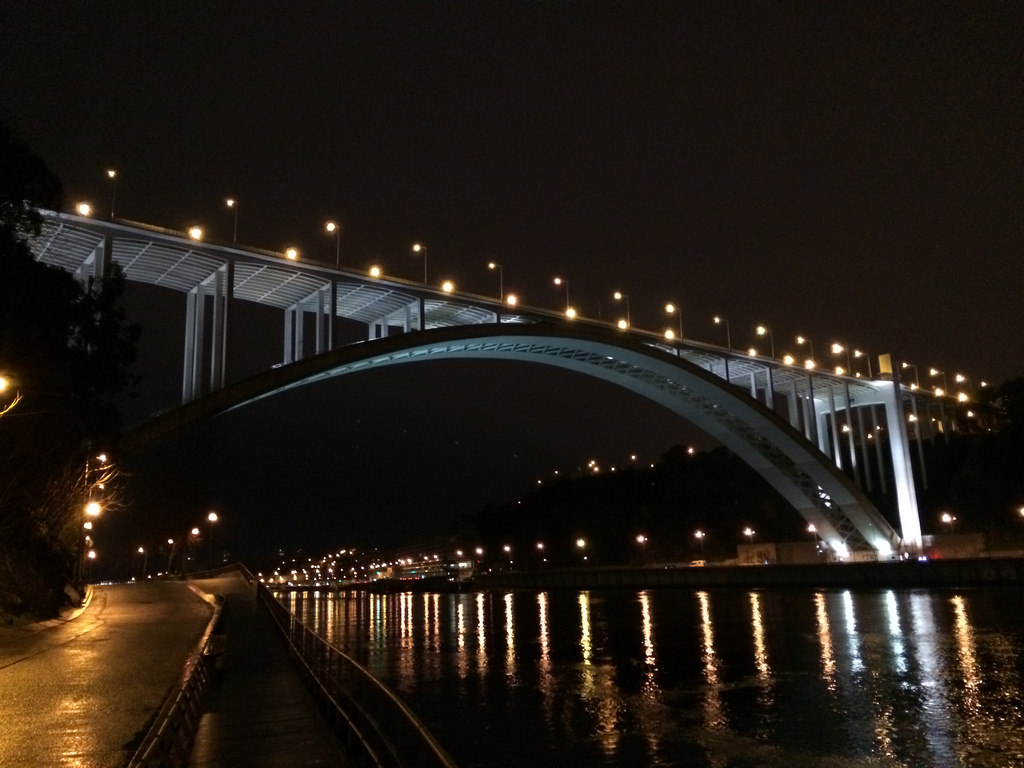arrabida: (0, 203, 1023, 562)
